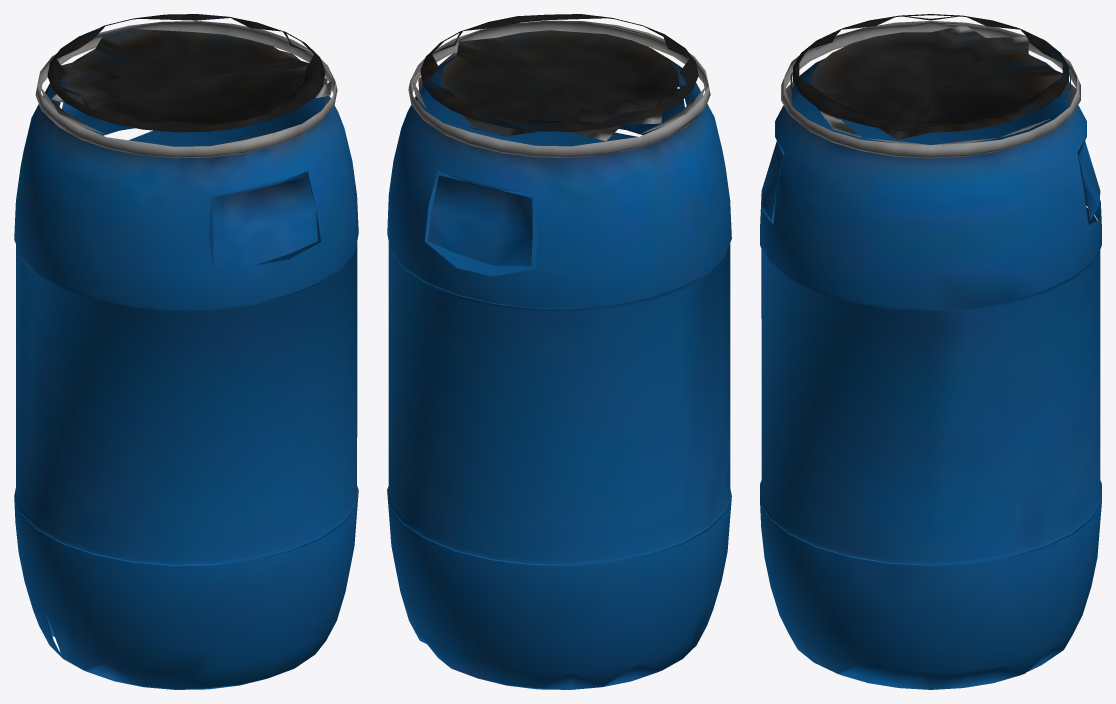
The model's file is barrel2_lo.glb.
The picture shows the model from 3 angles, left to right: view 1: azimuth 30°, elevation 25°; view 2: azimuth 150°, elevation 25°; view 3: azimuth 270°, elevation 25°; orthographic projection.
Parts seen in each view (by area): view 1: merged; view 2: merged; view 3: merged.
Part boxes in pixels (x1,y1,x2,y2): merged: [14, 14, 358, 689]; merged: [387, 14, 731, 689]; merged: [760, 14, 1101, 689].
Bounding box in the file's own units: 0.4882 × 0.88 × 0.4846.
1 material, 1 textured.
